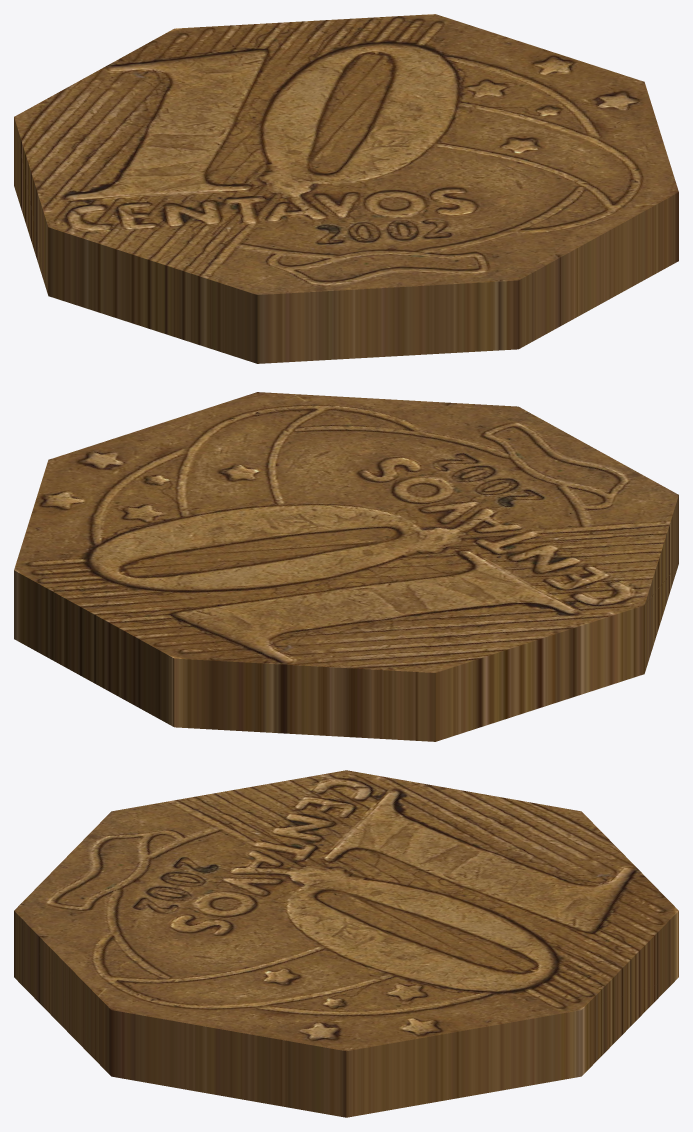
File: moeda.glb
The picture shows the model from 3 angles, top to bottom: view 1: azimuth 30°, elevation 25°; view 2: azimuth 150°, elevation 25°; view 3: azimuth 270°, elevation 25°; orthographic projection. The views are drawn at different scales.
Visible parts, largest first — view 1: 10centavos; view 2: 10centavos; view 3: 10centavos.
Part boxes in pixels (bbox=[...]): 10centavos: bbox=[14, 14, 678, 363]; 10centavos: bbox=[14, 392, 678, 741]; 10centavos: bbox=[14, 770, 678, 1117].
Bounding box in the file's own units: 0.187 × 0.0206 × 0.187.
Materials: 1 (1 with a texture image).
